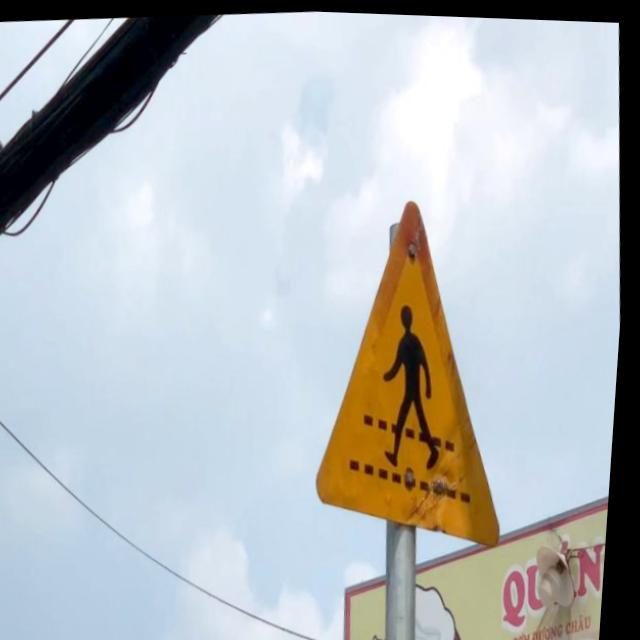Nguoi di bo cat ngang: (279, 168, 539, 571)
